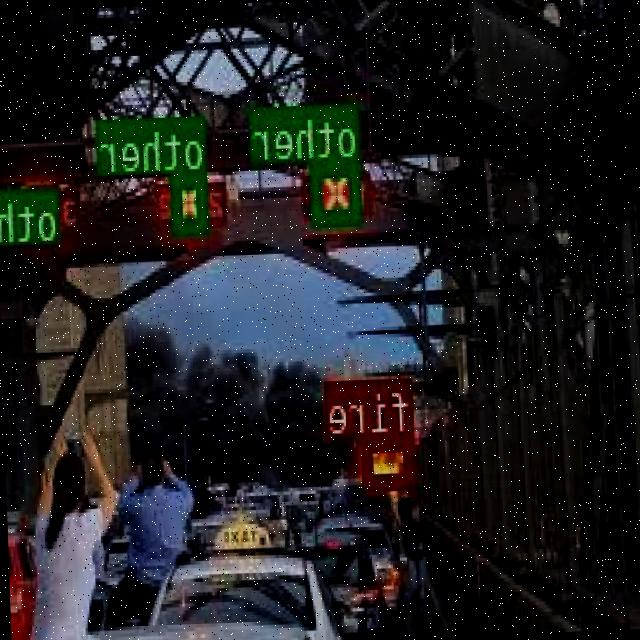fire: (364, 431, 418, 488)
